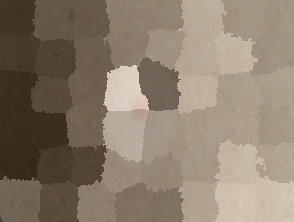vitiligo: (62, 15, 239, 182)
